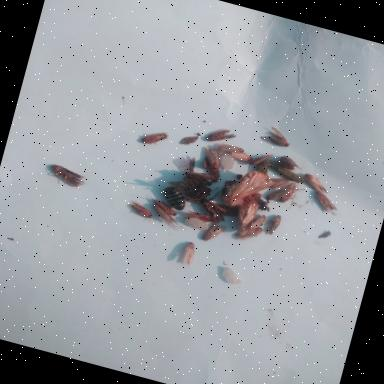abw: (218, 160, 276, 212)
pbw: (46, 161, 90, 188), (233, 197, 265, 232), (311, 190, 342, 218), (148, 202, 179, 228), (198, 143, 226, 171), (262, 125, 296, 148), (198, 156, 224, 186), (299, 172, 331, 196), (204, 122, 234, 147), (234, 221, 264, 245), (198, 198, 226, 222), (149, 196, 180, 217), (141, 126, 168, 150), (202, 222, 228, 246), (264, 181, 292, 203), (123, 199, 154, 217), (278, 182, 297, 210), (179, 240, 199, 266), (216, 141, 246, 158), (264, 213, 285, 237), (226, 150, 255, 167), (248, 149, 272, 169)
